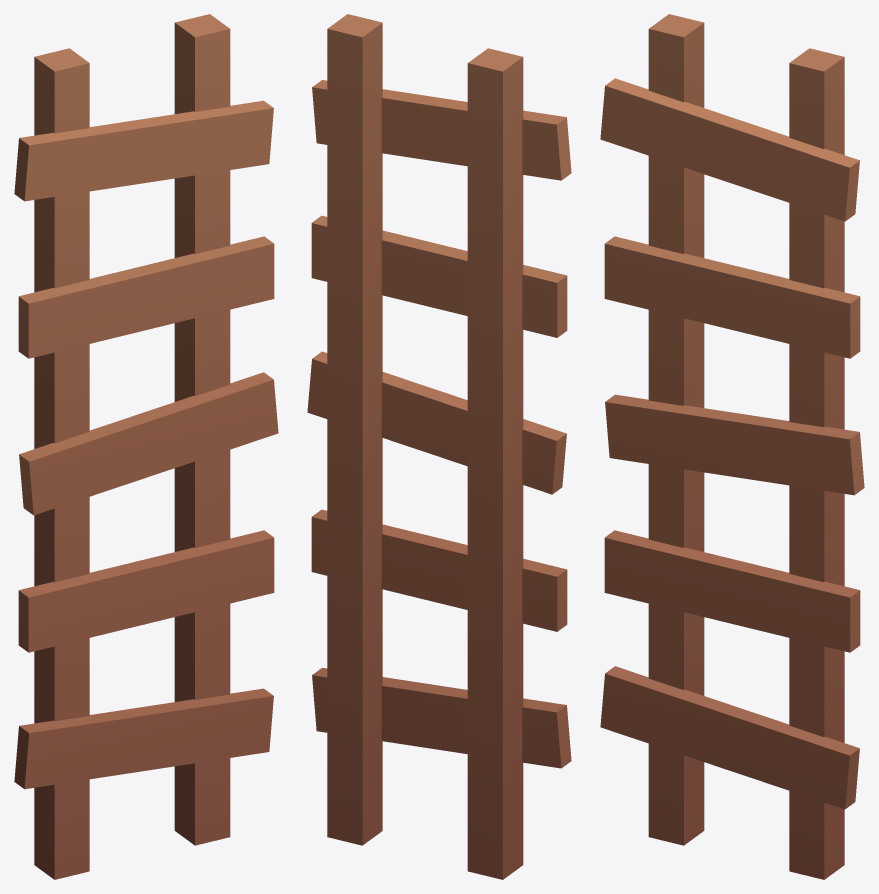
The model's file is d_kaykit_echelle.glb.
3 views of the same model, side by side, from view 1: azimuth 30°, elevation 25°; view 2: azimuth 150°, elevation 25°; view 3: azimuth 330°, elevation 25° (orthographic).
Parts seen in each view (by area): view 1: d_kaykit_echelle; view 2: d_kaykit_echelle; view 3: d_kaykit_echelle.
Boxes of the visible parts, left/top/right/bottom form: d_kaykit_echelle: left=14, top=14, right=278, bottom=879; d_kaykit_echelle: left=307, top=14, right=571, bottom=879; d_kaykit_echelle: left=600, top=14, right=864, bottom=879.
Bounding box in the file's own units: 0.2533 × 0.77 × 0.0508.
Materials: 1 (1 with a texture image).
